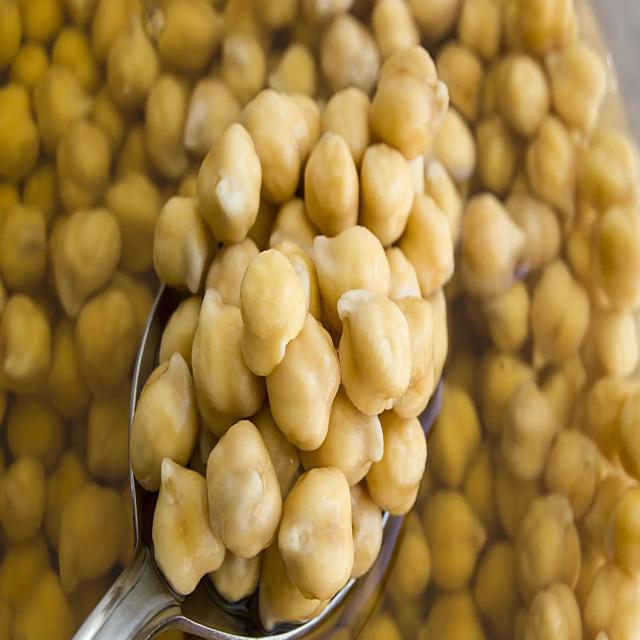garbanzos: (116, 84, 455, 614)
